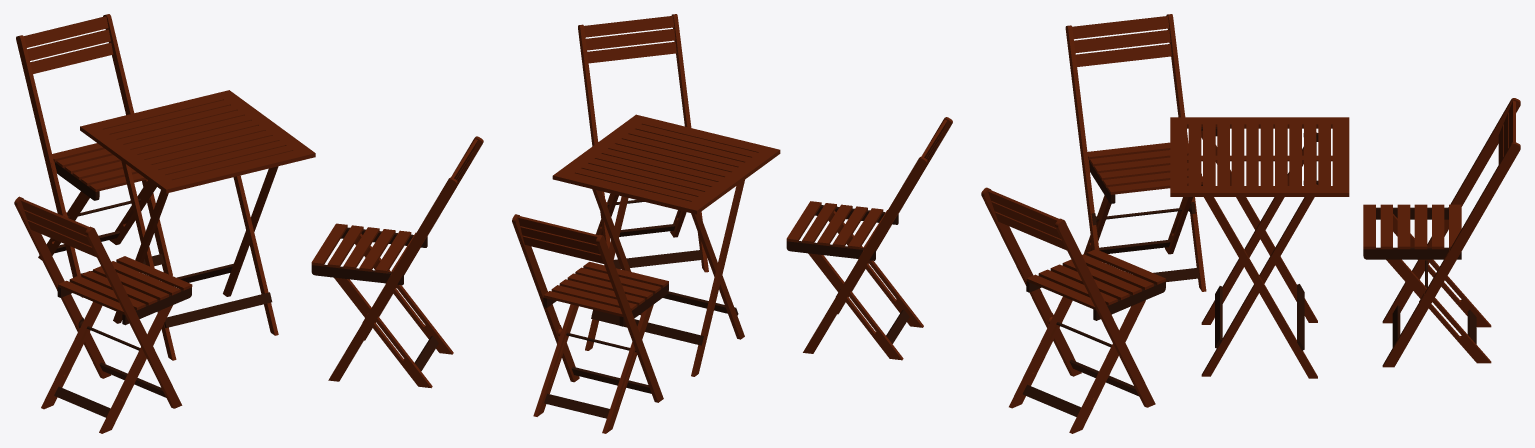
The model's file is yeni_masa_sandalye.fbx.
The picture shows the model from 3 angles, left to right: view 1: azimuth 30°, elevation 25°; view 2: azimuth 150°, elevation 25°; view 3: azimuth 270°, elevation 25°; orthographic projection. The views are drawn at different scales.
Parts seen in each view (by area): view 1: table; view 2: table; view 3: table.
Part boxes in pixels (box(x1,y1,x2,y2)): table: box(14, 14, 483, 433); table: box(512, 14, 952, 433); table: box(981, 14, 1520, 433).
Bounding box in the file's own units: 129 × 64.02 × 140.
